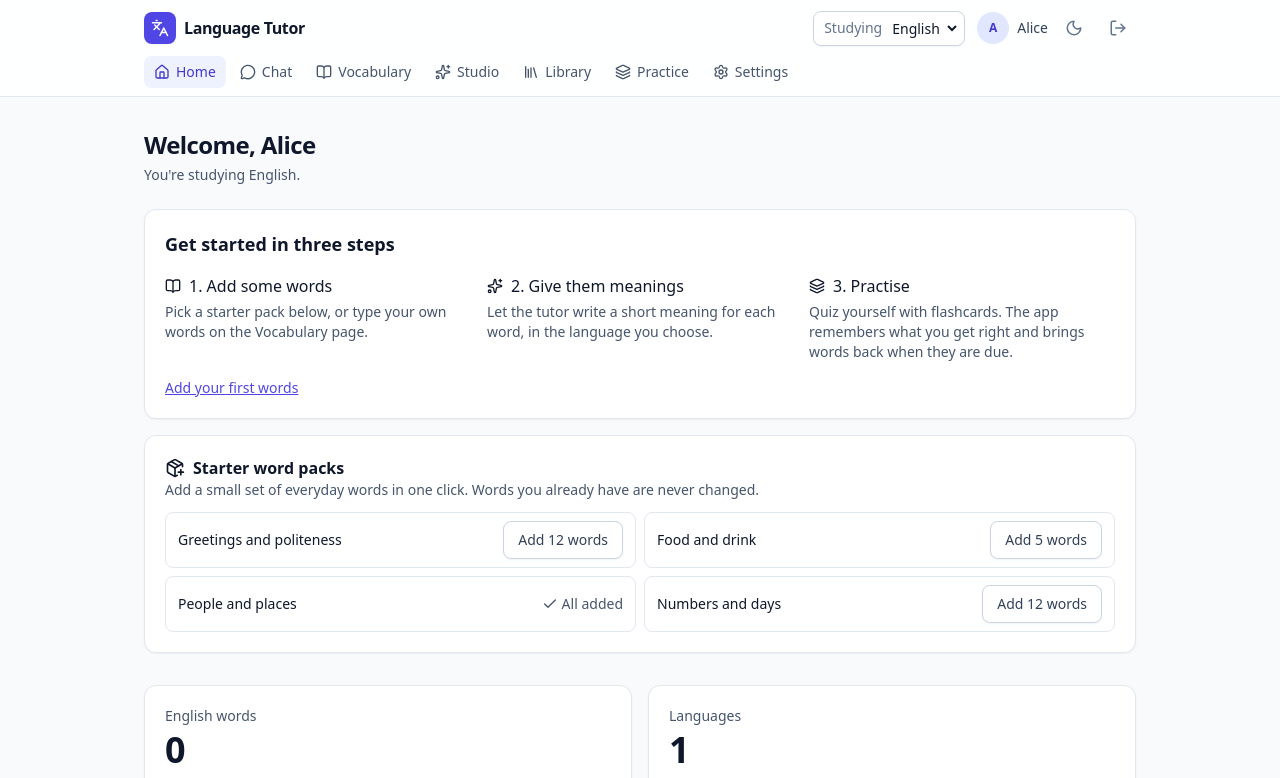
Test: first-run guide on Home › stays up after a pack is added, so the learner sees what happened
The width and height of the screenshot is (1280, 778).
Step 1. Click the button with aria-label "Greetings and politeness: Add 12 words" → (563, 540), box left=503, top=521, right=623, bottom=559
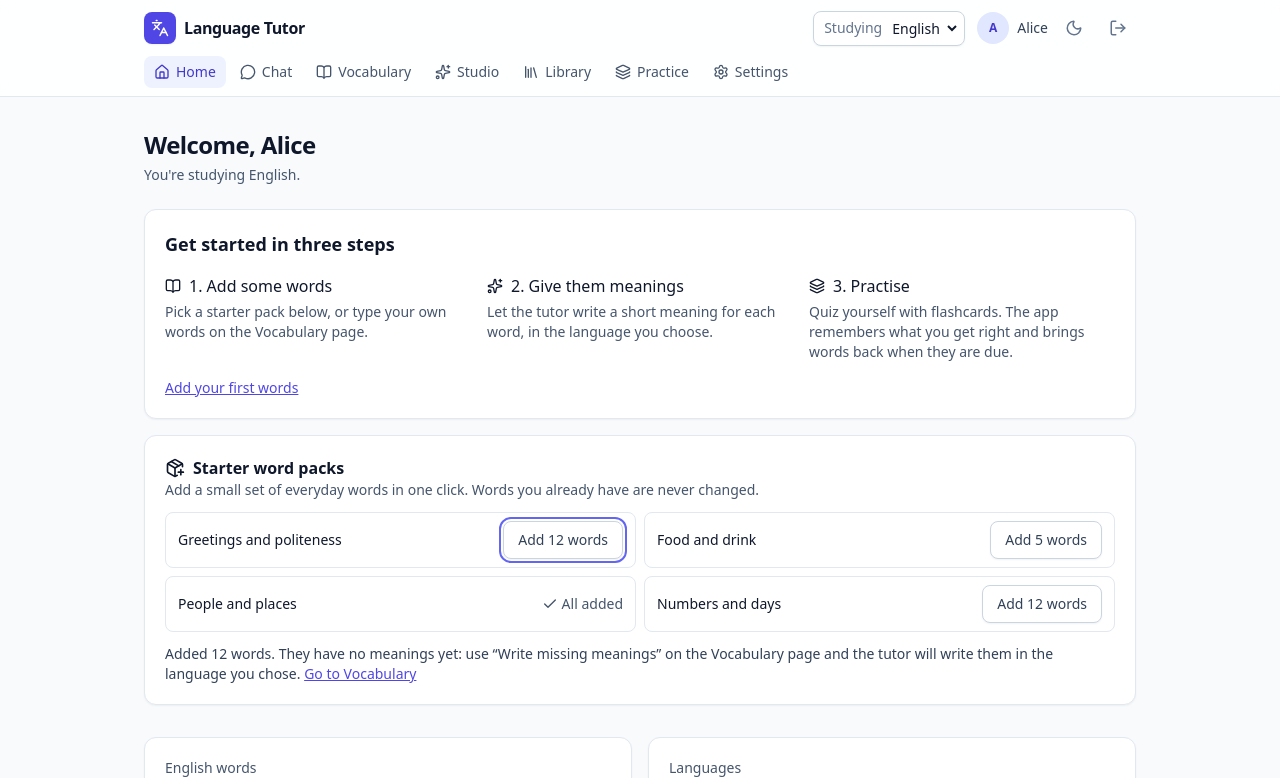
Expected: the heading "Get started in three steps" is shown, left=165, top=232, right=395, bottom=256
Result: the text "Added 12 words. They have no meanings yet" is shown at left=165, top=644, right=1053, bottom=683
